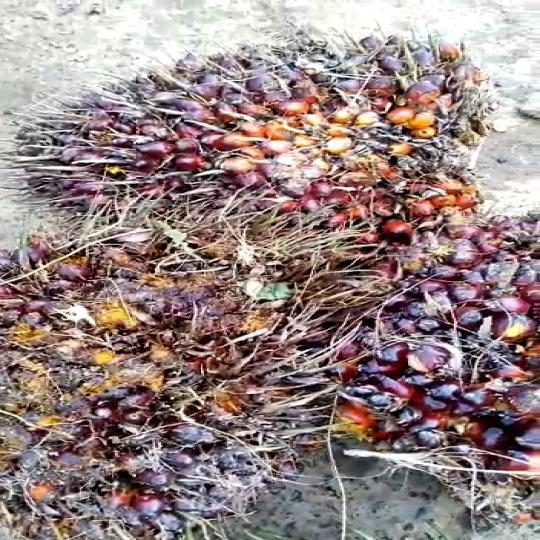masak: (7, 16, 540, 244), (0, 209, 338, 538)
